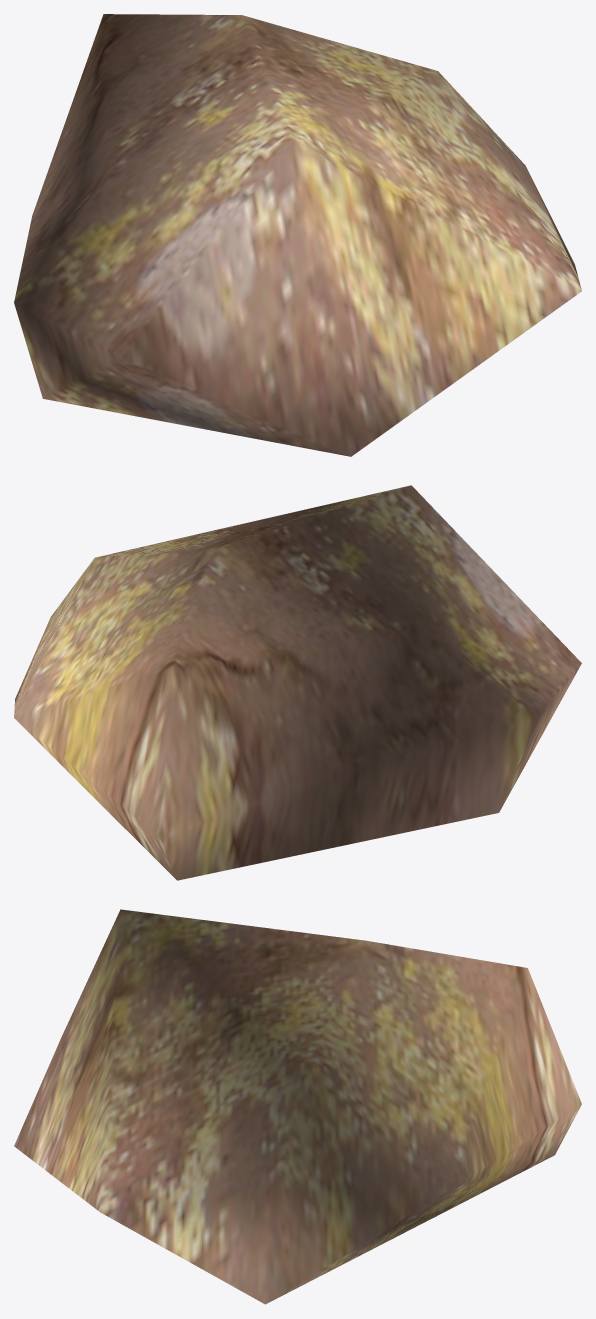
Rendered from rock2.fbx.
The picture shows the model from 3 angles, top to bottom: view 1: azimuth 30°, elevation 25°; view 2: azimuth 150°, elevation 25°; view 3: azimuth 270°, elevation 25°; orthographic projection. The views are drawn at different scales.
Parts seen in each view (by area): view 1: rock2; view 2: rock2; view 3: rock2.
Part boxes in pixels (left/top/right/bottom): rock2: left=14, top=14, right=581, bottom=456; rock2: left=14, top=485, right=581, bottom=880; rock2: left=14, top=909, right=581, bottom=1304.
Size of the model in its own units: 7620 by 3500 by 7378.
